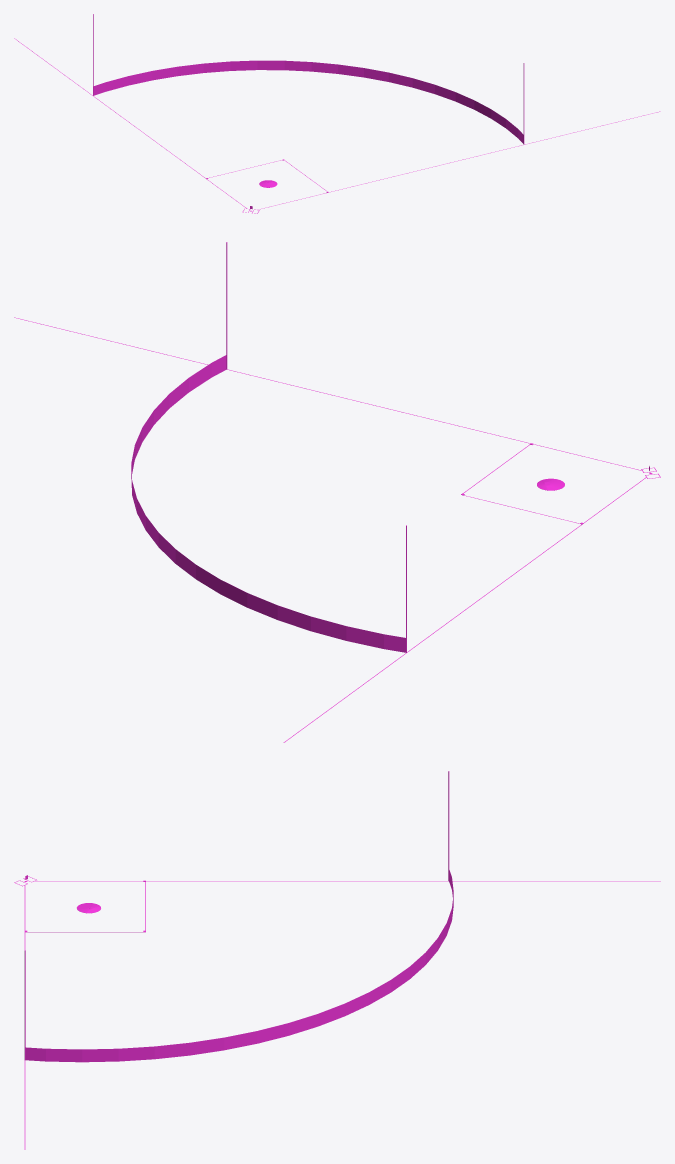
The model's file is 60 ft field 3.glb.
3 renders of one model, top to bottom at view 1: azimuth 30°, elevation 25°; view 2: azimuth 150°, elevation 25°; view 3: azimuth 270°, elevation 25°, orthographic. The views are drawn at different scales.
Visible parts, largest first — view 1: fence, chalk; view 2: fence, chalk; view 3: fence, chalk.
Part boxes in pixels (left/top/right/bottom): fence: left=93, top=60, right=523, bottom=143; chalk: left=14, top=38, right=660, bottom=213; fence: left=131, top=355, right=405, bottom=652; chalk: left=14, top=317, right=660, bottom=742; fence: left=25, top=869, right=453, bottom=1062; chalk: left=14, top=876, right=660, bottom=1149.
Size of the model in its own units: 97.63 by 18.3 by 97.63.
